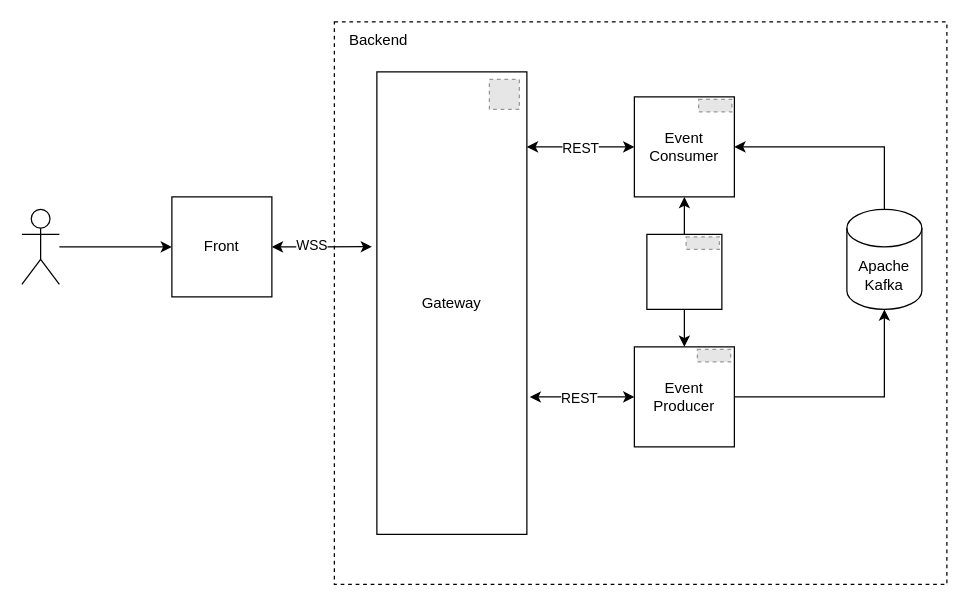
This 969x606 diagram has some shape labels left out. Grey dashed boxes stand in for pictures. Here are the shapes that lost their labels. From the top down, the centre of each, then its label:
At point 40,246: "User".
At point 684,271: "Battleship Lib".
